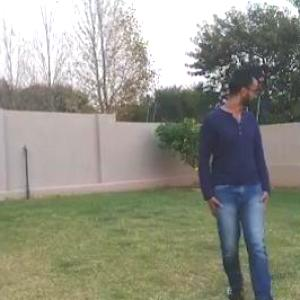follow: (181, 13, 290, 299)
